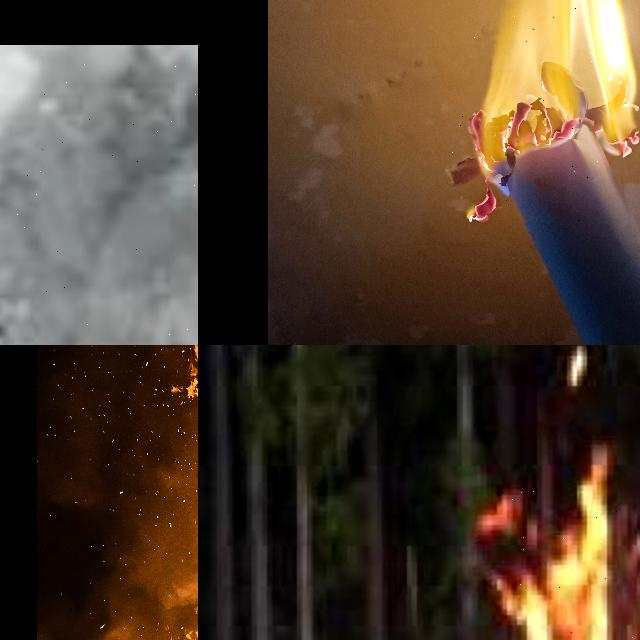fire: (449, 0, 638, 222), (477, 443, 640, 640)
smoke: (0, 46, 198, 345)
